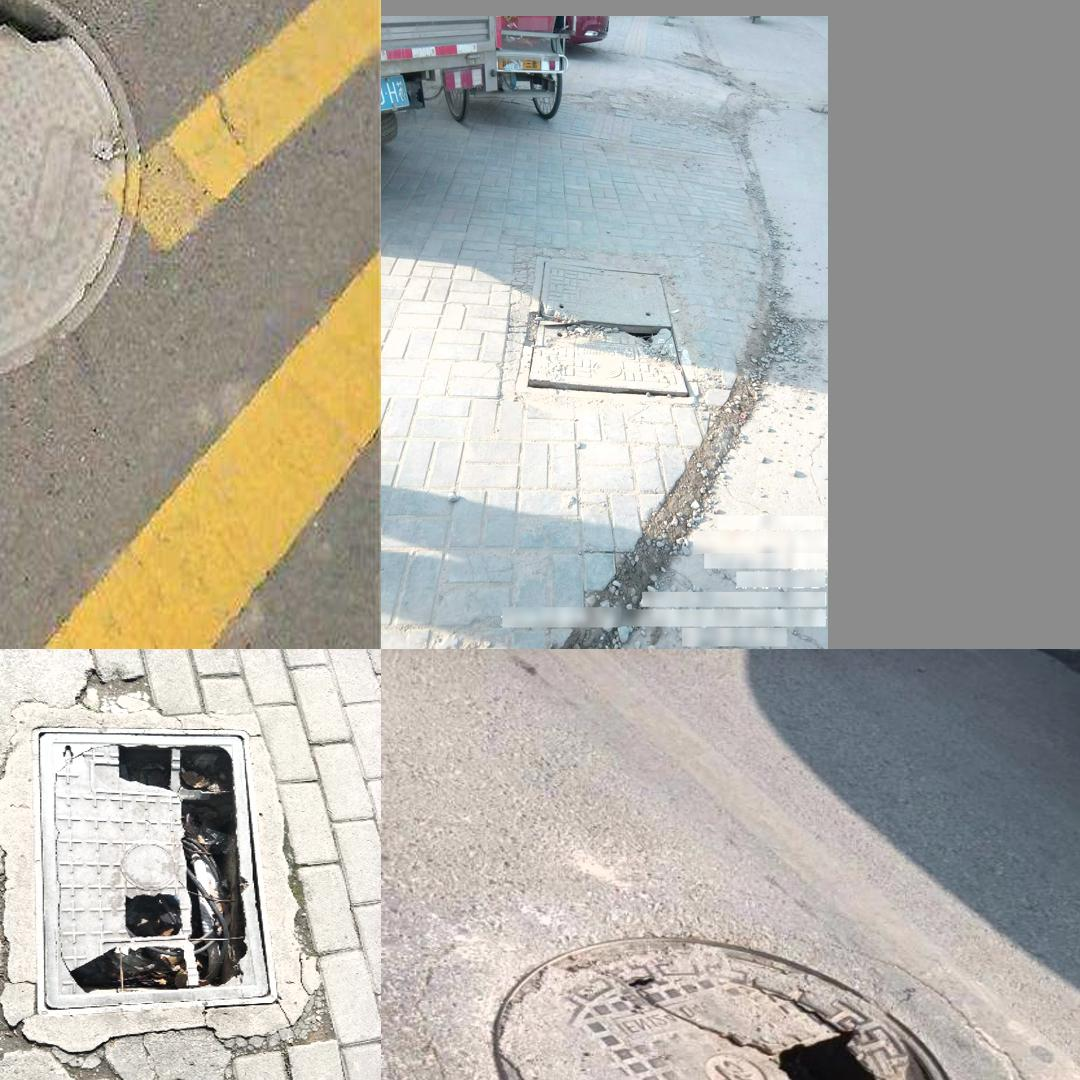broke: (435, 916, 1046, 1080), (32, 725, 277, 1013), (0, 0, 139, 382), (526, 268, 671, 387)
